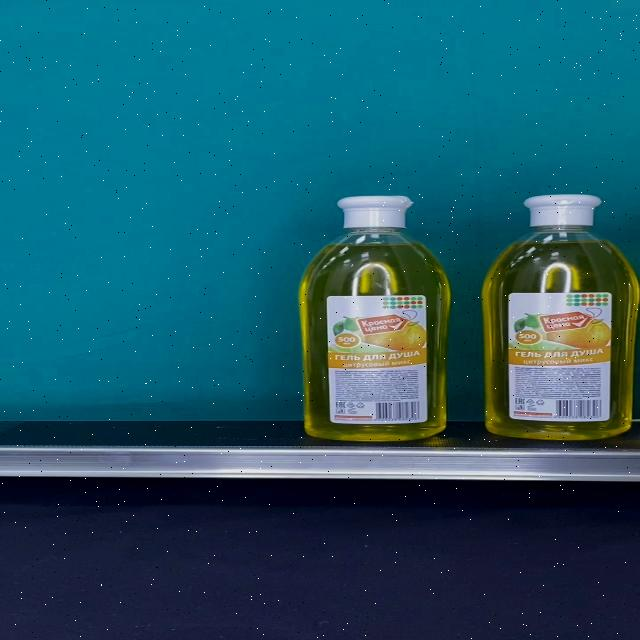Bottle: (480, 193, 640, 440), (298, 195, 452, 441)
Cap: (337, 195, 415, 229), (522, 194, 602, 227)
